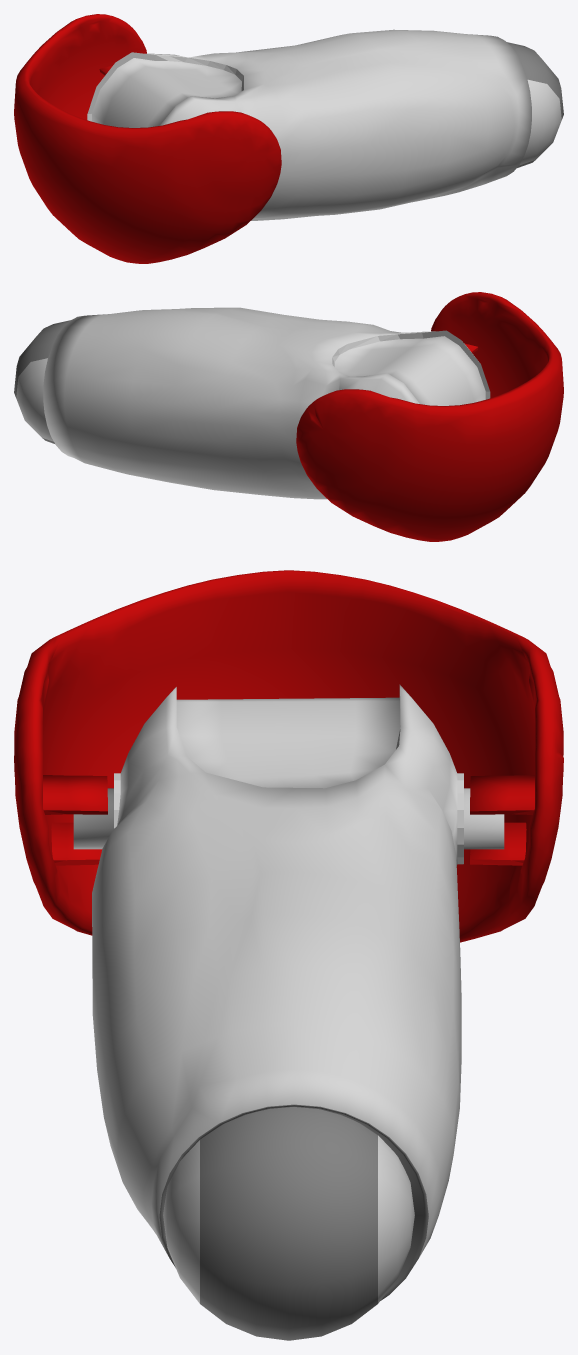
The model's file is RShoulderRoll.dae.
The picture shows the model from 3 angles, top to bottom: view 1: azimuth 30°, elevation 25°; view 2: azimuth 150°, elevation 25°; view 3: azimuth 270°, elevation 25°; orthographic projection. The views are drawn at different scales.
Visible parts, largest first — view 1: root_026; view 2: root_026; view 3: root_026.
Part boxes in pixels (x1,y1,x2,y2): root_026: (14,14,563,263); root_026: (14,292,563,541); root_026: (14,570,563,1340).
Bounding box in the file's own units: 170 × 81.69 × 60.
